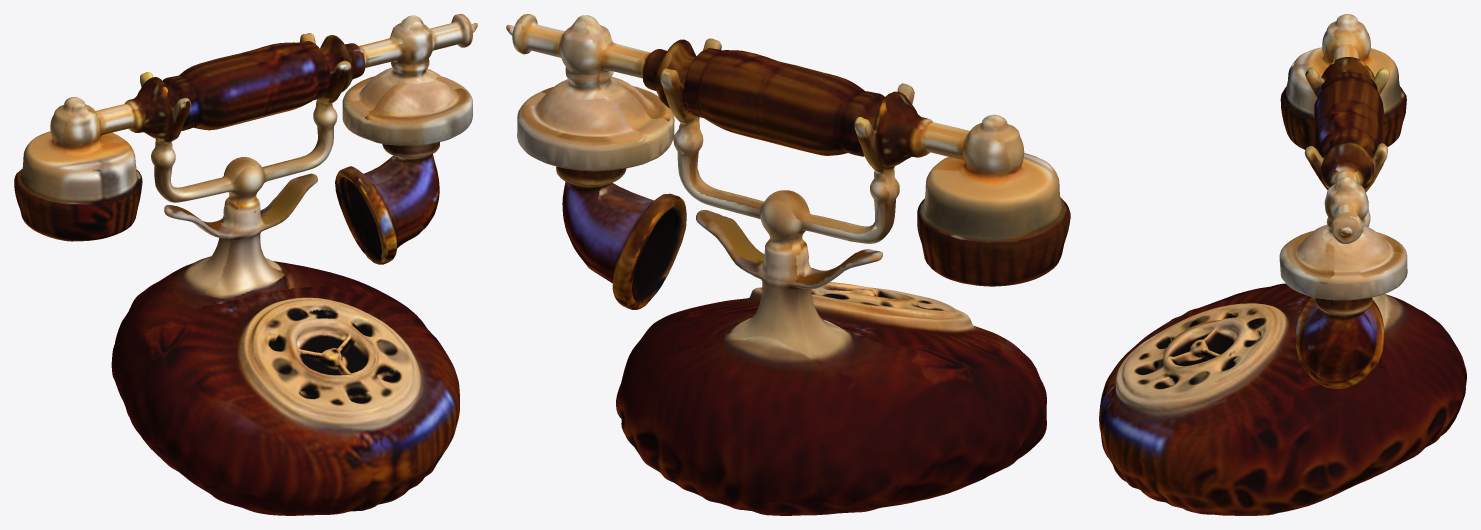
File: LandlineTelephone.glb
3 views of the same model, side by side, from view 1: azimuth 30°, elevation 25°; view 2: azimuth 150°, elevation 25°; view 3: azimuth 270°, elevation 25° (orthographic). The views are drawn at different scales.
Visible parts, largest first — view 1: object.001_Material.003_0; view 2: object.001_Material.003_0; view 3: object.001_Material.003_0.
Boxes of the visible parts, x1,y1,x2,y2 form: object.001_Material.003_0: (14,14,477,515); object.001_Material.003_0: (506,14,1070,515); object.001_Material.003_0: (1099,14,1466,515).
Bounding box in the file's own units: 0.9243 × 0.7375 × 0.655.
1 material, 1 textured.
